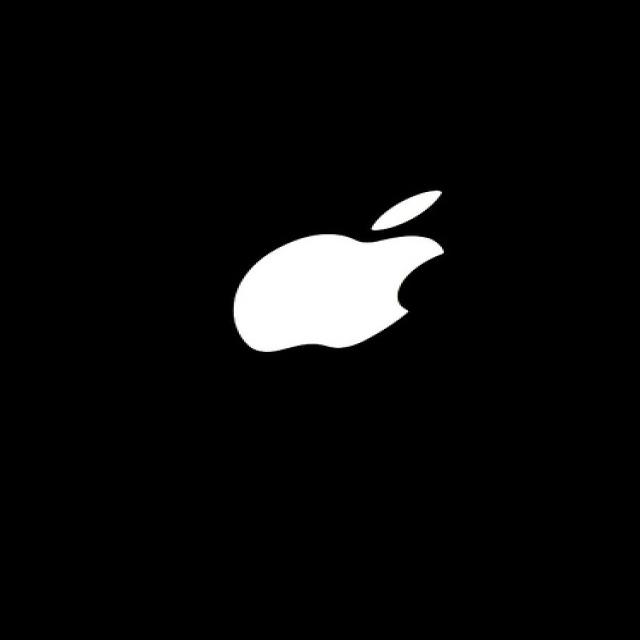apple: (209, 162, 479, 371)
